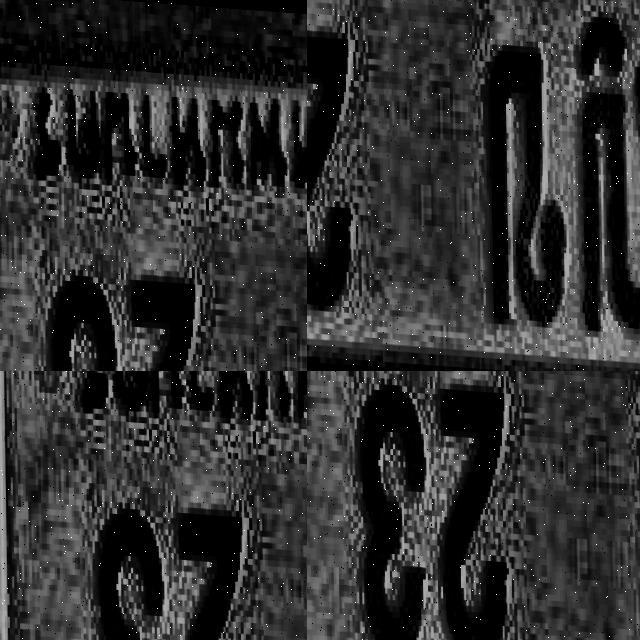license-plate: (307, 371, 640, 640), (402, 38, 640, 371)
